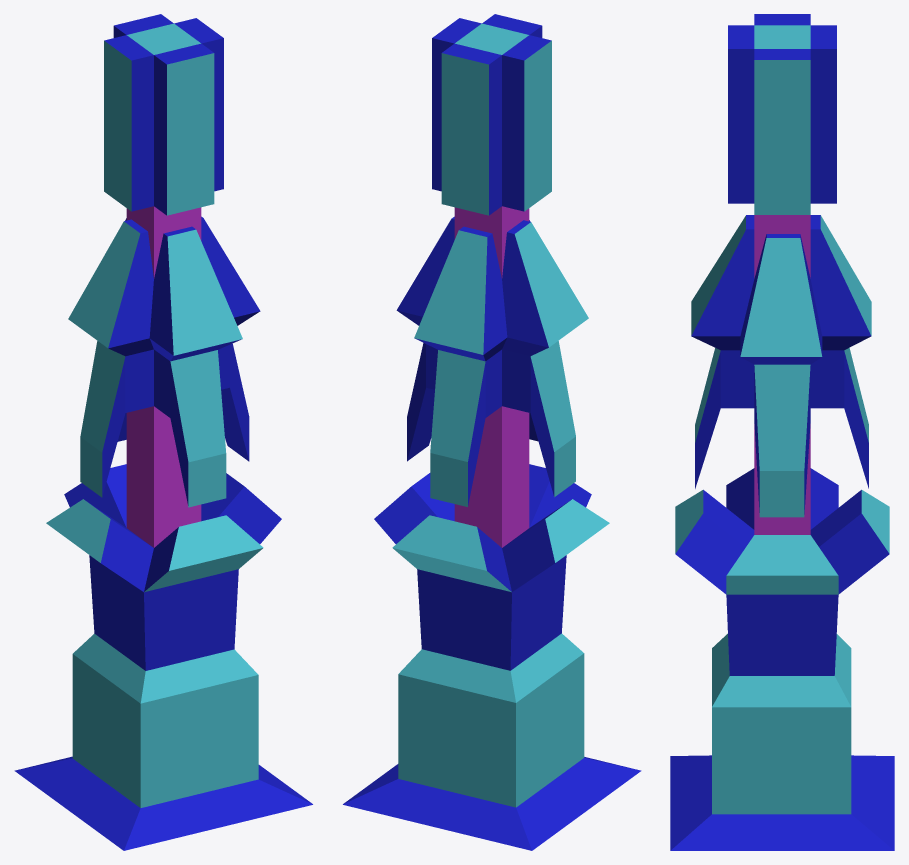
File: damageTower.fbx
3 renders of one model, left to right at view 1: azimuth 30°, elevation 25°; view 2: azimuth 150°, elevation 25°; view 3: azimuth 270°, elevation 25°, orthographic. The views are drawn at different scales.
Parts seen in each view (by area): view 1: Cube; view 2: Cube; view 3: Cube.
Part boxes in pixels (bbox=[...]): Cube: bbox=[14, 14, 312, 850]; Cube: bbox=[343, 14, 641, 850]; Cube: bbox=[670, 14, 894, 850].
Size of the model in its own units: 70 by 264 by 70.
